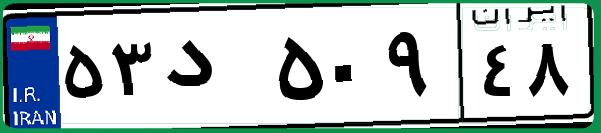0: (330, 28, 385, 110)
3: (110, 28, 158, 98)
4: (475, 38, 525, 113)
5: (270, 28, 330, 110), (57, 26, 110, 100)
8: (525, 38, 570, 115)
9: (385, 28, 445, 110)
د: (158, 20, 270, 120)
